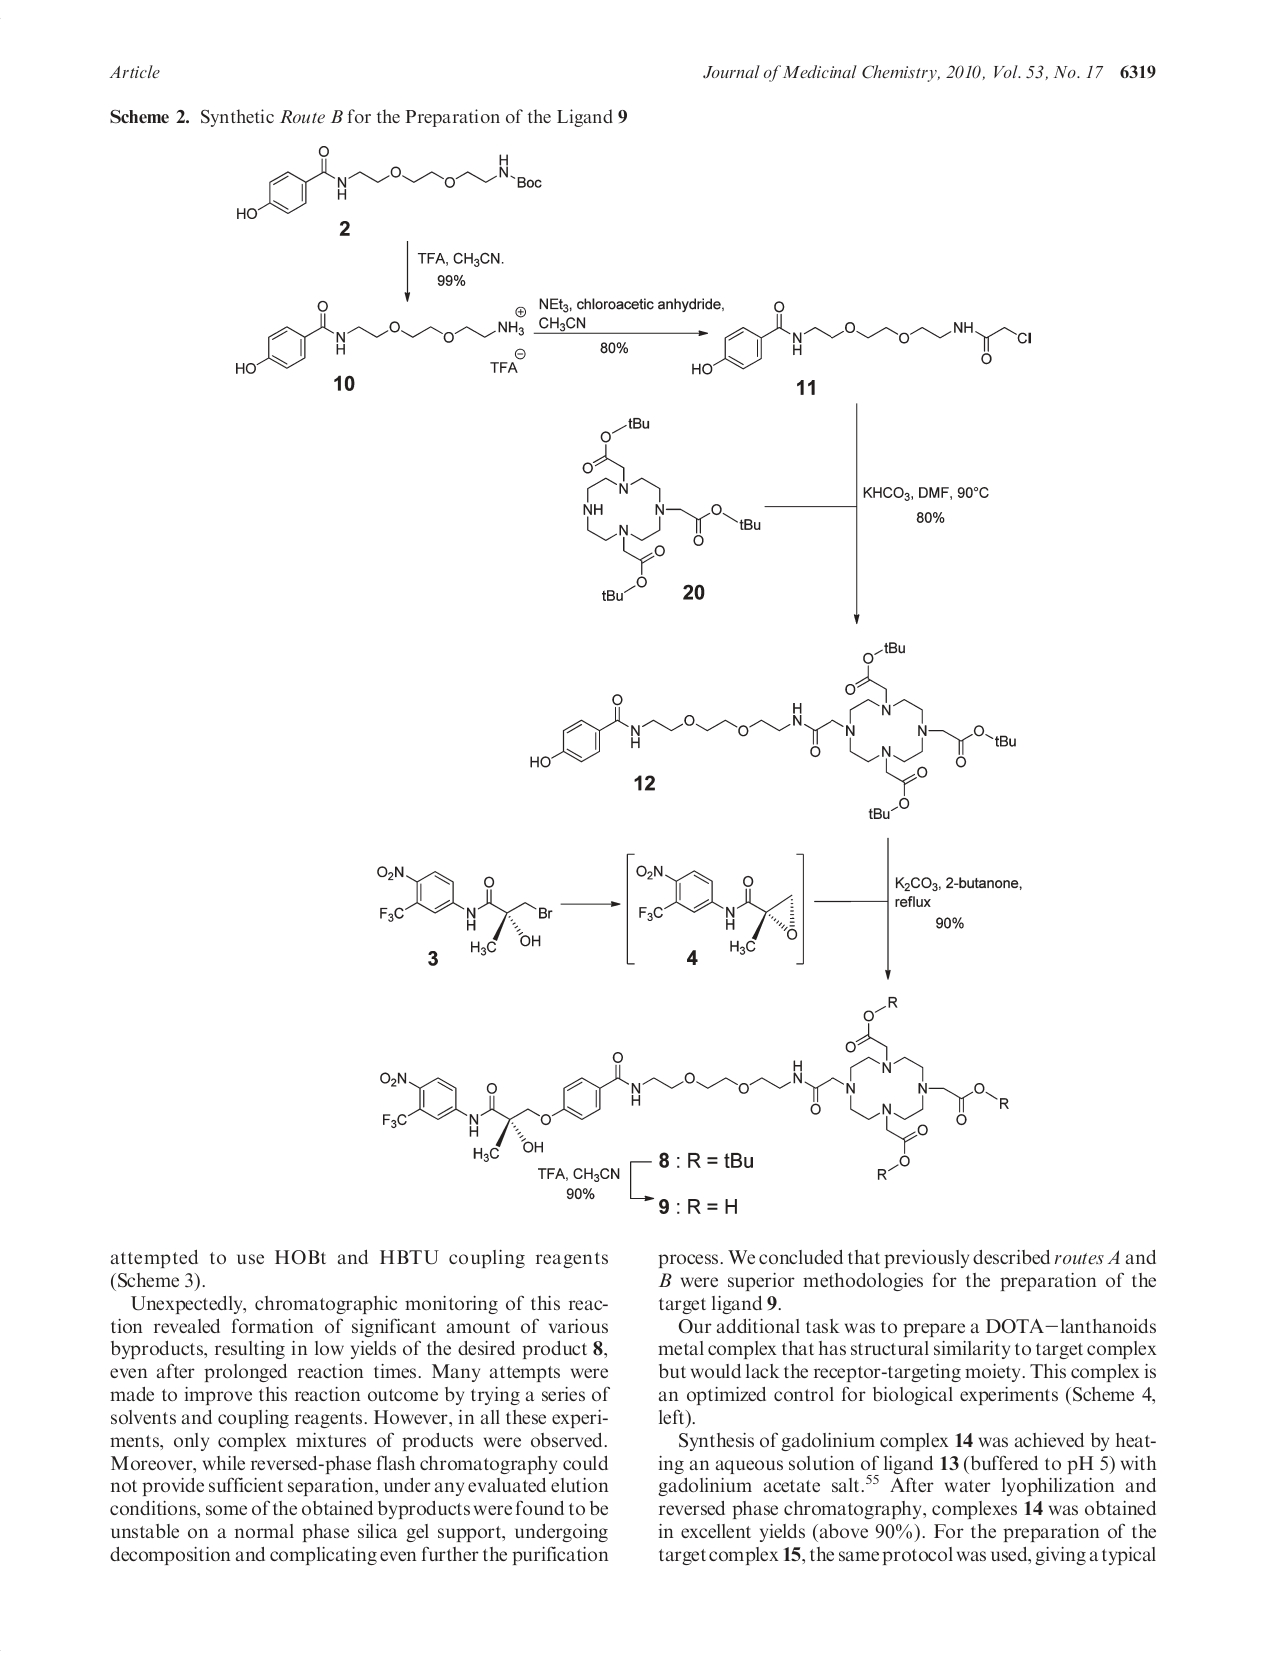exist_molecular: (380, 992, 1013, 1182), (527, 640, 1019, 821), (580, 414, 762, 602), (688, 301, 1033, 376), (230, 148, 548, 226), (231, 299, 525, 376), (372, 862, 553, 959), (633, 862, 798, 955)
